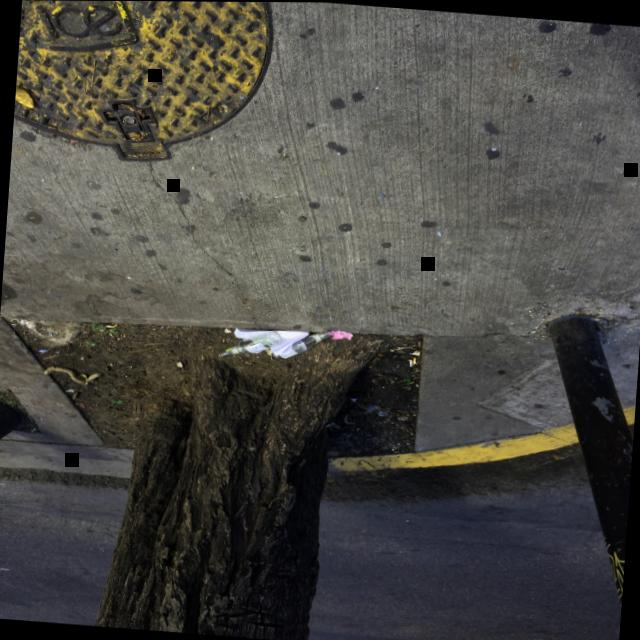Cigarette: (409, 359, 413, 366), (413, 356, 416, 363)
Glass bottle: (271, 330, 330, 361), (217, 331, 282, 358)
Normal paper: (233, 328, 309, 354)
